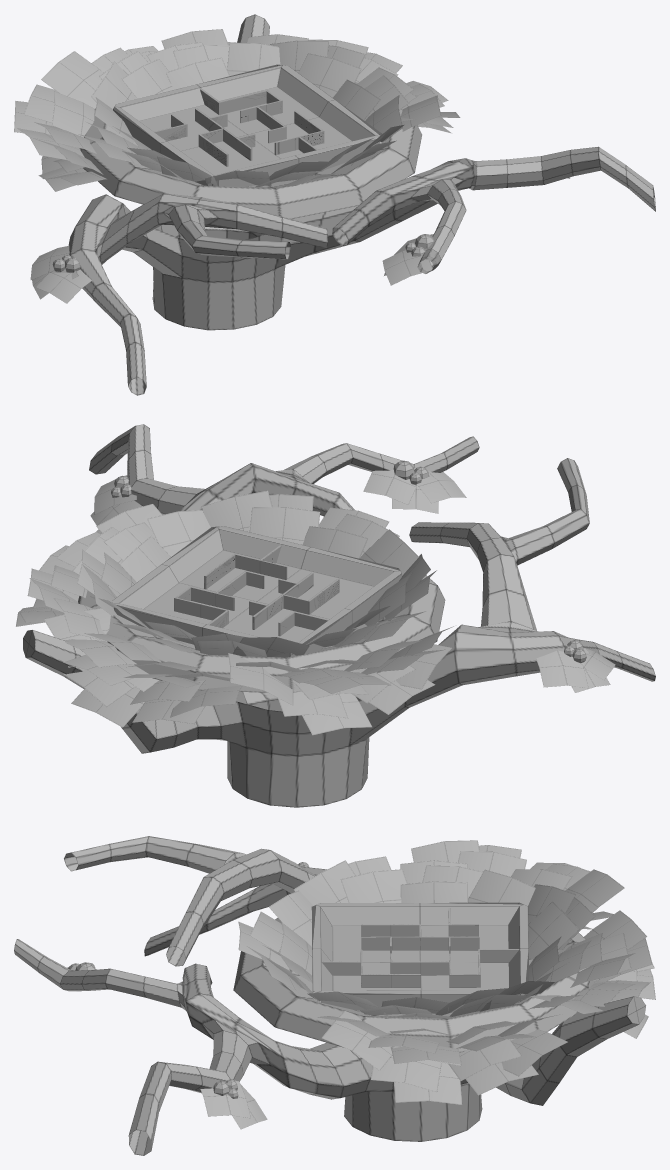
The model's file is Arena_Malphas.fbx.
3 views of the same model, one above another, from view 1: azimuth 30°, elevation 25°; view 2: azimuth 150°, elevation 25°; view 3: azimuth 270°, elevation 25° (orthographic). The views are drawn at different scales.
Visible parts, largest first — view 1: polySurface_tree, polySurface_branch, polySurface_platform, polySurface_nest, polySurface_leaf, polySurface_berry, polySurface13, polySurface4, polySurface20; view 2: polySurface_branch, polySurface_tree, polySurface_platform, polySurface_nest, polySurface_leaf, polySurface_berry, polySurface13, polySurface23, polySurface29, polySurface27; view 3: polySurface_branch, polySurface_tree, polySurface_platform, polySurface_nest, polySurface33, polySurface_leaf, polySurface24, polySurface31, polySurface26, polySurface_berry, polySurface30, polySurface22.
Part boxes in pixels (x1=…): polySurface_tree: x1=68, y1=14, x2=655, y2=395; polySurface_branch: x1=14, y1=29, x2=460, y2=191; polySurface_platform: x1=113, y1=64, x2=381, y2=186; polySurface_nest: x1=79, y1=82, x2=421, y2=218; polySurface_leaf: x1=30, y1=177, x2=569, y2=303; polySurface_berry: x1=52, y1=234, x2=433, y2=272; polySurface13: x1=195, y1=108, x2=251, y2=160; polySurface4: x1=218, y1=91, x2=266, y2=114; polySurface20: x1=274, y1=131, x2=323, y2=155; polySurface_branch: x1=16, y1=490, x2=453, y2=735; polySurface_tree: x1=23, y1=424, x2=655, y2=807; polySurface_platform: x1=112, y1=526, x2=401, y2=657; polySurface_nest: x1=78, y1=575, x2=445, y2=692; polySurface_leaf: x1=90, y1=468, x2=615, y2=692; polySurface_berry: x1=111, y1=460, x2=586, y2=663; polySurface13: x1=254, y1=573, x2=313, y2=629; polySurface23: x1=235, y1=554, x2=286, y2=579; polySurface29: x1=174, y1=597, x2=227, y2=620; polySurface27: x1=189, y1=586, x2=233, y2=610; polySurface_branch: x1=238, y1=840, x2=655, y2=1104; polySurface_tree: x1=14, y1=836, x2=645, y2=1155; polySurface_platform: x1=311, y1=902, x2=528, y2=1014; polySurface_nest: x1=233, y1=918, x2=597, y2=1052; polySurface33: x1=361, y1=937, x2=479, y2=950; polySurface_leaf: x1=67, y1=967, x2=267, y2=1129; polySurface24: x1=361, y1=974, x2=420, y2=987; polySurface31: x1=361, y1=924, x2=420, y2=936; polySurface26: x1=392, y1=961, x2=449, y2=975; polySurface_berry: x1=68, y1=862, x2=309, y2=1098; polySurface30: x1=480, y1=949, x2=519, y2=962; polySurface22: x1=322, y1=962, x2=360, y2=975.
Bounding box in the file's own units: 6903 × 2410 × 6564.
Materials: 1 (1 with a texture image).
